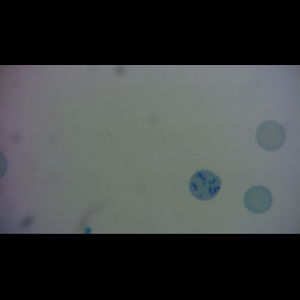aggregate reticulocyte: (188, 169, 224, 201)
erythrocyte: (255, 120, 287, 152), (243, 185, 274, 215)
